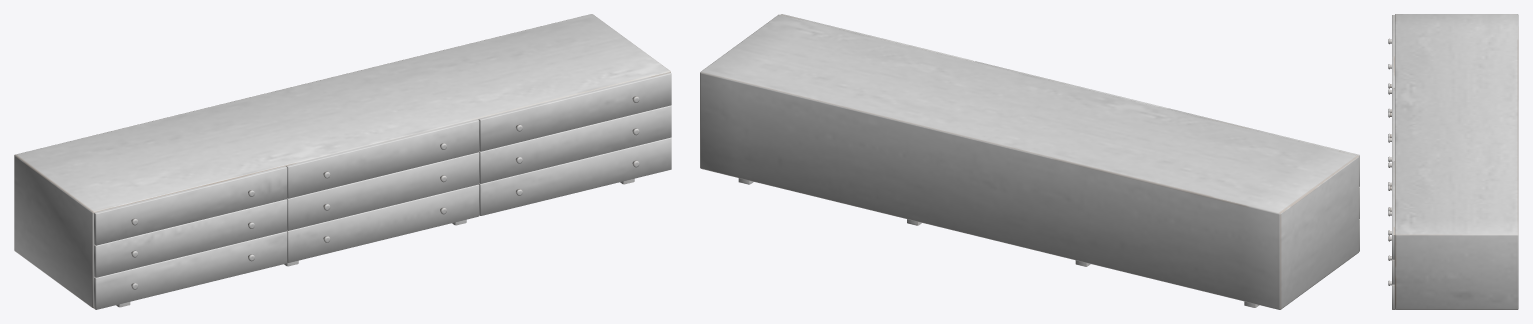
File: EE_StorageDisUnit_04.gltf
The picture shows the model from 3 angles, left to right: view 1: azimuth 30°, elevation 25°; view 2: azimuth 150°, elevation 25°; view 3: azimuth 270°, elevation 25°; orthographic projection. The views are drawn at different scales.
Visible parts, largest first — view 1: EE_StorageDisUnit_04.001; view 2: EE_StorageDisUnit_04.001; view 3: EE_StorageDisUnit_04.001.
Part boxes in pixels (bbox=[...]): EE_StorageDisUnit_04.001: bbox=[14, 14, 671, 309]; EE_StorageDisUnit_04.001: bbox=[700, 14, 1359, 309]; EE_StorageDisUnit_04.001: bbox=[1388, 14, 1518, 309].
Size of what is drawn, in the model's own units: 3.45 by 0.608 by 0.8595.
Materials: 1 (1 with a texture image).
